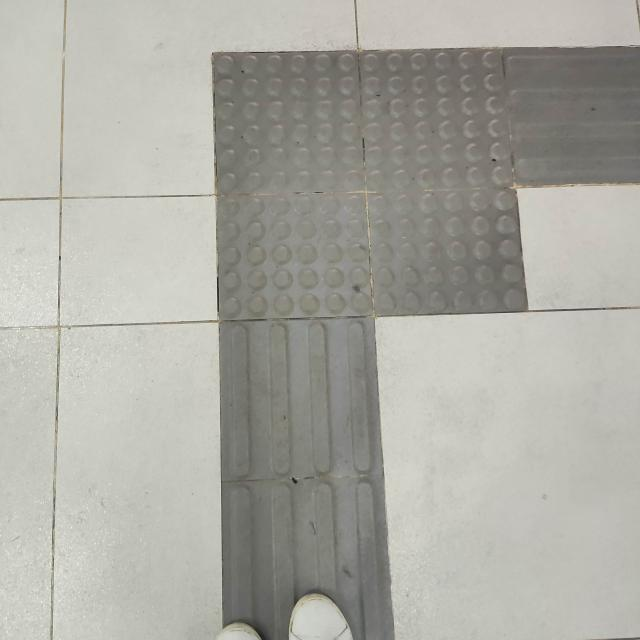kanan: (180, 30, 640, 416)
